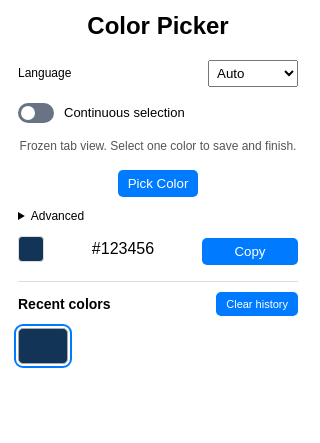
it: history feature integration › preserves history and reports clear failure, then permits retry
Expected: the text "#123456" is shown, [92, 240, 154, 258]
Click the button "Clear history" at (257, 304), box [216, 292, 298, 316]
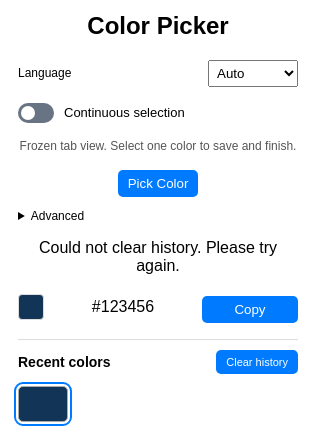
Expected: the text "#123456" is shown, [92, 298, 154, 316]
Result: the message shows "Could not clear history" at [39, 239, 277, 274]
Click the button "Clear history" at (257, 362), box [216, 350, 298, 374]
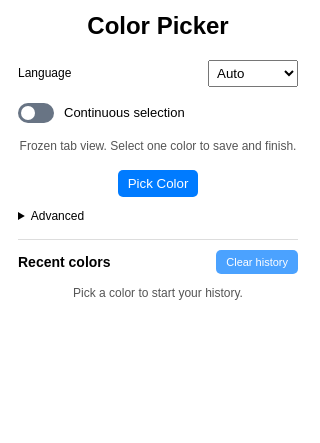
Result: the text "Pick a color to start your history." is shown at [73, 286, 243, 300]
